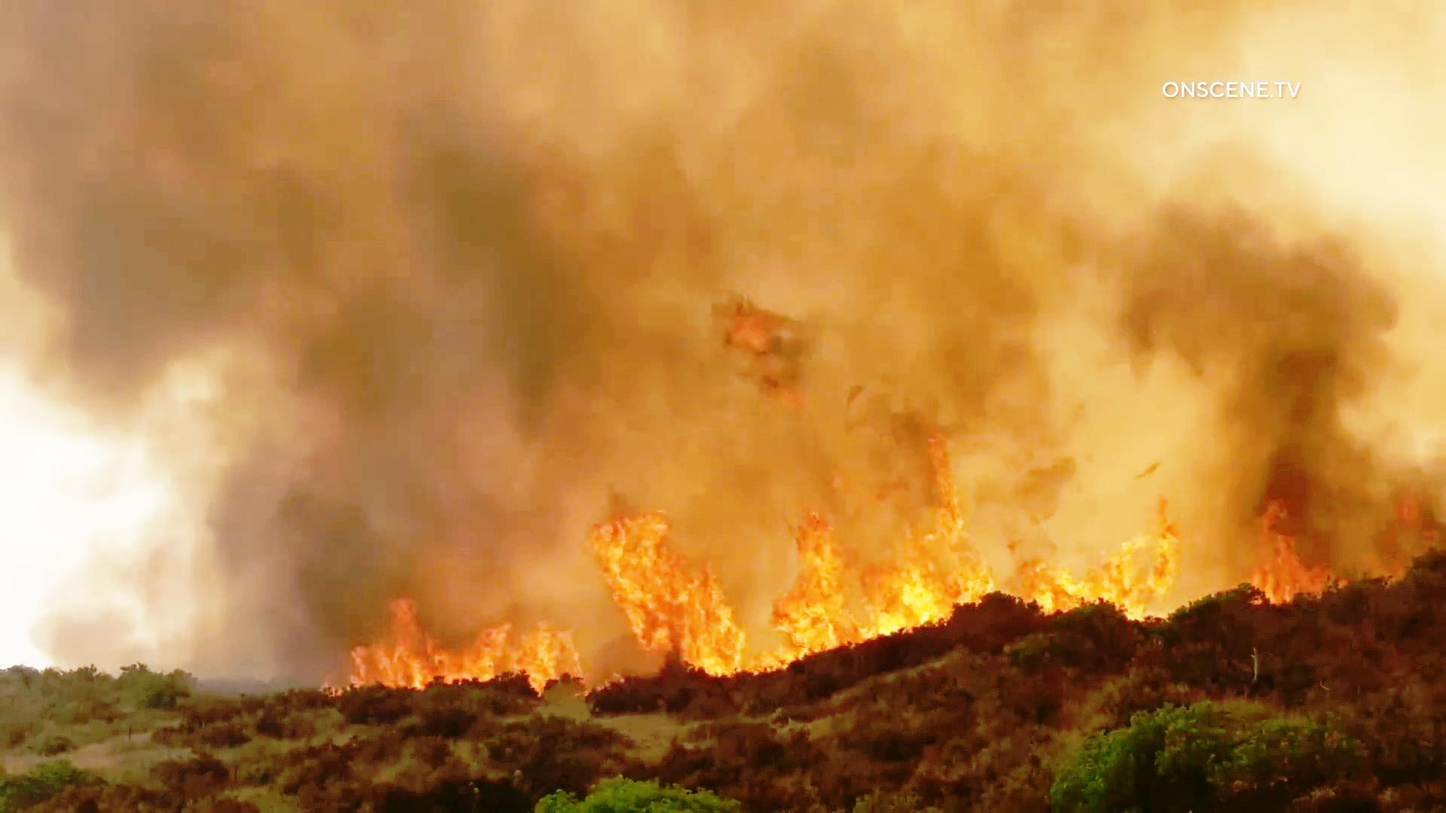fire: (584, 493, 754, 685), (324, 588, 582, 691), (1017, 503, 1207, 631), (877, 437, 998, 637), (767, 499, 871, 663), (1245, 501, 1331, 607)
smoke: (1124, 168, 1364, 487), (381, 125, 587, 448)
